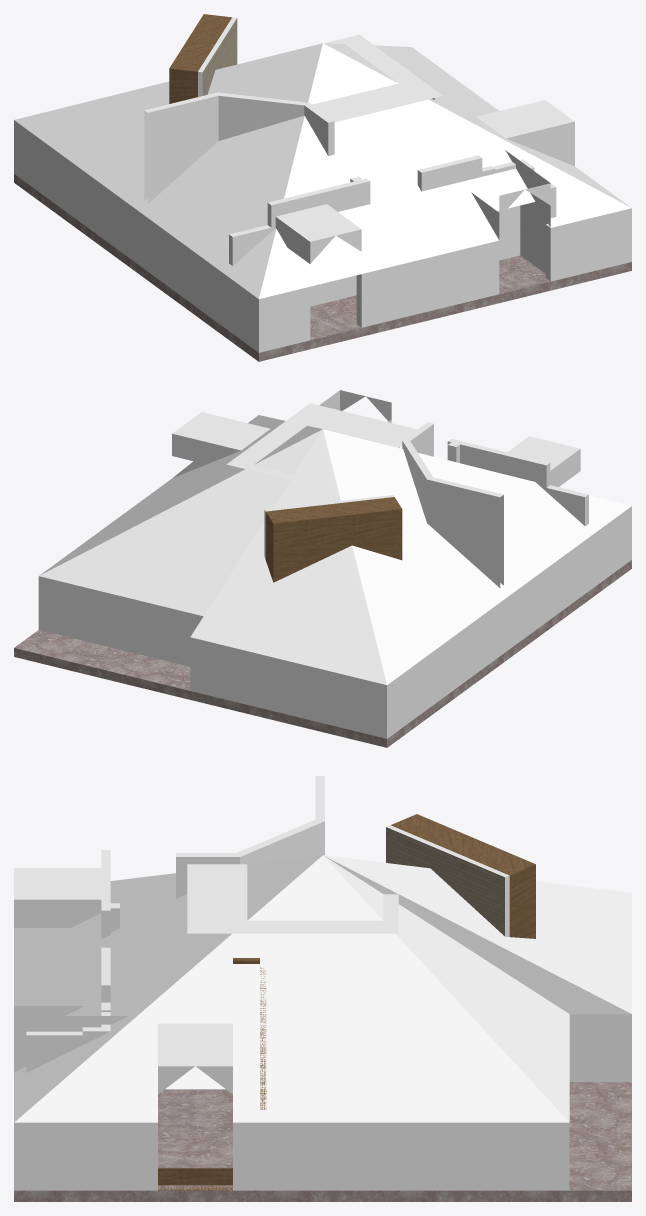
File: dakwar.glb
3 views of the same model, one above another, from view 1: azimuth 30°, elevation 25°; view 2: azimuth 150°, elevation 25°; view 3: azimuth 270°, elevation 25° (orthographic). The views are drawn at different scales.
Parts seen in each view (by area): view 1: Geom3D_Component#3, Geom3D_Component#4, Geom3D_ceiling inclined, Geom3D_floor, Geom3D (×2), Geom3D_closet; view 2: Geom3D_Component#4, Geom3D_Component#3, Geom3D_ceiling inclined, Geom3D_floor, Geom3D_closet, Geom3D; view 3: Geom3D_Component#4, Geom3D_Component#3, Geom3D_ceiling inclined, Geom3D (×3), Geom3D_floor, Geom3D_closet, Geom3D_drawers 01.
Part boxes in pixels (left/top/right/bottom): Geom3D_Component#3: left=14, top=92, right=631, bottom=352; Geom3D_Component#4: left=52, top=43, right=592, bottom=267; Geom3D_ceiling inclined: left=14, top=46, right=631, bottom=298; Geom3D_floor: left=14, top=174, right=631, bottom=361; Geom3D (×2): left=198, top=17, right=442, bottom=122; Geom3D_closet: left=169, top=14, right=231, bottom=103; Geom3D_Component#4: left=74, top=417, right=593, bottom=653; Geom3D_Component#3: left=38, top=390, right=631, bottom=738; Geom3D_ceiling inclined: left=39, top=415, right=631, bottom=684; Geom3D_floor: left=14, top=560, right=631, bottom=747; Geom3D_closet: left=265, top=497, right=402, bottom=582; Geom3D: left=226, top=403, right=417, bottom=559; Geom3D_Component#4: left=52, top=855, right=593, bottom=1089; Geom3D_Component#3: left=14, top=776, right=631, bottom=1190; Geom3D_ceiling inclined: left=14, top=888, right=631, bottom=1122; Geom3D (×3): left=158, top=825, right=509, bottom=1168; Geom3D_floor: left=14, top=1082, right=631, bottom=1201; Geom3D_closet: left=391, top=814, right=535, bottom=938; Geom3D_drawers 01: left=158, top=958, right=266, bottom=1190.
Bounding box in the file's own units: 8.72 × 4.1 × 9.91.
23 materials, 15 textured.
